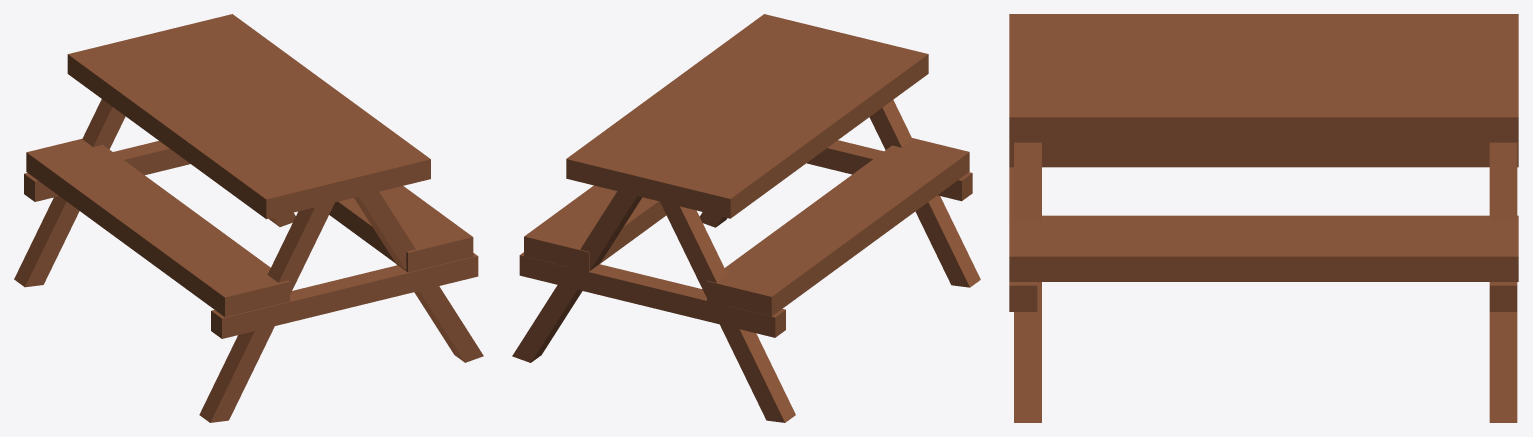
File: picnicTable.fbx
3 renders of one model, left to right at view 1: azimuth 30°, elevation 25°; view 2: azimuth 150°, elevation 25°; view 3: azimuth 270°, elevation 25°, orthographic. The views are drawn at different scales.
Visible parts, largest first — view 1: Cube, Cube.002, Cube.003, Cube.001, Cube.008, Cube.007, Cube.006, Cube.004; view 2: Cube, Cube.002, Cube.004, Cube.006, Cube.001, Cube.005, Cube.008, Cube.003; view 3: Cube, Cube.001, Cube.002, Cube.005, Cube.007, Cube.003, Cube.004.
Part boxes in pixels (x1=…): Cube: x1=67, y1=14, x2=430, y2=219; Cube.002: x1=26, y1=139, x2=289, y2=317; Cube.003: x1=211, y1=253, x2=478, y2=338; Cube.001: x1=329, y1=186, x2=473, y2=272; Cube.008: x1=199, y1=202, x2=334, y2=422; Cube.007: x1=354, y1=192, x2=483, y2=362; Cube.006: x1=14, y1=99, x2=125, y2=287; Cube.004: x1=24, y1=141, x2=190, y2=201; Cube: x1=566, y1=14, x2=928, y2=218; Cube.002: x1=707, y1=138, x2=969, y2=316; Cube.004: x1=519, y1=252, x2=785, y2=337; Cube.006: x1=660, y1=201, x2=795, y2=422; Cube.001: x1=524, y1=185, x2=666, y2=271; Cube.005: x1=512, y1=191, x2=641, y2=362; Cube.008: x1=869, y1=100, x2=980, y2=287; Cube.003: x1=807, y1=140, x2=972, y2=201; Cube: x1=1009, y1=14, x2=1518, y2=142; Cube.001: x1=1009, y1=215, x2=1518, y2=281; Cube.002: x1=1009, y1=142, x2=1518, y2=167; Cube.005: x1=1489, y1=142, x2=1517, y2=422; Cube.007: x1=1014, y1=142, x2=1041, y2=422; Cube.003: x1=1009, y1=167, x2=1037, y2=311; Cube.004: x1=1489, y1=282, x2=1517, y2=311.
Bounding box in the file's own units: 842 × 628 × 1057.
